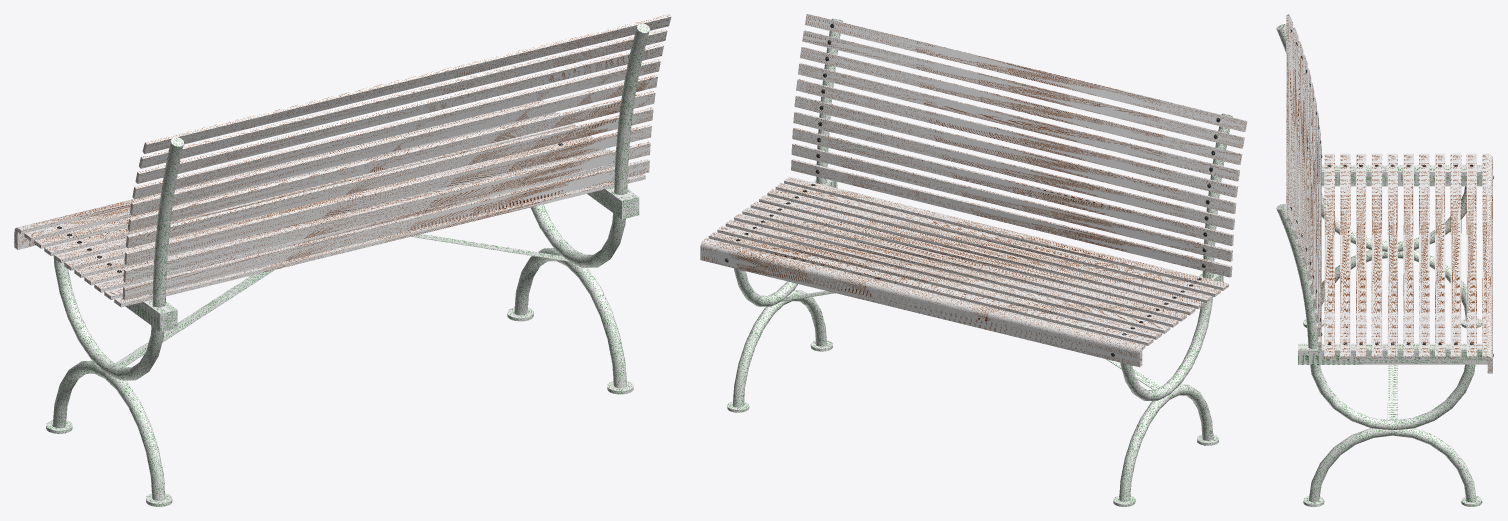
3 renders of one model, left to right at view 1: azimuth 30°, elevation 25°; view 2: azimuth 150°, elevation 25°; view 3: azimuth 270°, elevation 25°, orthographic. The views are drawn at different scales.
Visible parts, largest first — view 1: mesh14_mesh14-geometry, mesh2_mesh2-geometry, mesh4_mesh4-geometry, mesh9_mesh9-geometry, mesh5_mesh5-geometry, mesh12_mesh12-geometry, mesh7_mesh7-geometry, mesh15_mesh15-geometry, mesh13_mesh13-geometry, mesh10_mesh10-geometry, mesh11_mesh11-geometry, mesh6_mesh6-geometry; view 2: mesh14_mesh14-geometry, mesh2_mesh2-geometry, mesh15_mesh15-geometry, mesh4_mesh4-geometry, mesh9_mesh9-geometry, mesh5_mesh5-geometry, mesh10_mesh10-geometry, mesh7_mesh7-geometry, mesh12_mesh12-geometry; view 3: mesh2_mesh2-geometry, mesh14_mesh14-geometry, mesh9_mesh9-geometry, mesh11_mesh11-geometry, mesh10_mesh10-geometry, mesh15_mesh15-geometry, mesh6_mesh6-geometry, mesh12_mesh12-geometry, mesh5_mesh5-geometry, mesh4_mesh4-geometry, mesh13_mesh13-geometry, mesh8_mesh8-geometry (+1 smaller).
Boxes of the visible parts, x1,y1,x2,y2 form: mesh14_mesh14-geometry: [122, 14, 671, 300]; mesh2_mesh2-geometry: [24, 112, 645, 307]; mesh4_mesh4-geometry: [52, 360, 165, 500]; mesh9_mesh9-geometry: [514, 248, 626, 388]; mesh5_mesh5-geometry: [53, 256, 164, 380]; mesh12_mesh12-geometry: [614, 23, 649, 194]; mesh7_mesh7-geometry: [152, 137, 183, 307]; mesh15_mesh15-geometry: [14, 100, 543, 249]; mesh13_mesh13-geometry: [115, 234, 568, 367]; mesh10_mesh10-geometry: [530, 204, 625, 267]; mesh11_mesh11-geometry: [587, 187, 639, 219]; mesh6_mesh6-geometry: [125, 299, 177, 331]; mesh14_mesh14-geometry: [791, 14, 1247, 277]; mesh2_mesh2-geometry: [708, 176, 1228, 345]; mesh15_mesh15-geometry: [700, 238, 1145, 367]; mesh4_mesh4-geometry: [1119, 384, 1213, 501]; mesh9_mesh9-geometry: [732, 290, 826, 407]; mesh5_mesh5-geometry: [1120, 296, 1212, 401]; mesh10_mesh10-geometry: [734, 268, 797, 306]; mesh7_mesh7-geometry: [1202, 113, 1232, 278]; mesh12_mesh12-geometry: [816, 18, 842, 184]; mesh2_mesh2-geometry: [1324, 153, 1476, 359]; mesh14_mesh14-geometry: [1286, 14, 1321, 351]; mesh9_mesh9-geometry: [1309, 428, 1476, 502]; mesh11_mesh11-geometry: [1298, 343, 1487, 364]; mesh10_mesh10-geometry: [1310, 364, 1475, 429]; mesh15_mesh15-geometry: [1482, 153, 1492, 373]; mesh6_mesh6-geometry: [1321, 165, 1482, 186]; mesh12_mesh12-geometry: [1276, 204, 1318, 349]; mesh5_mesh5-geometry: [1321, 186, 1466, 251]; mesh4_mesh4-geometry: [1321, 250, 1466, 322]; mesh13_mesh13-geometry: [1387, 364, 1397, 420]; mesh8_mesh8-geometry: [1303, 496, 1482, 506].
Bounding box in the file's own units: 0.7725 × 0.5301 × 0.3496.
